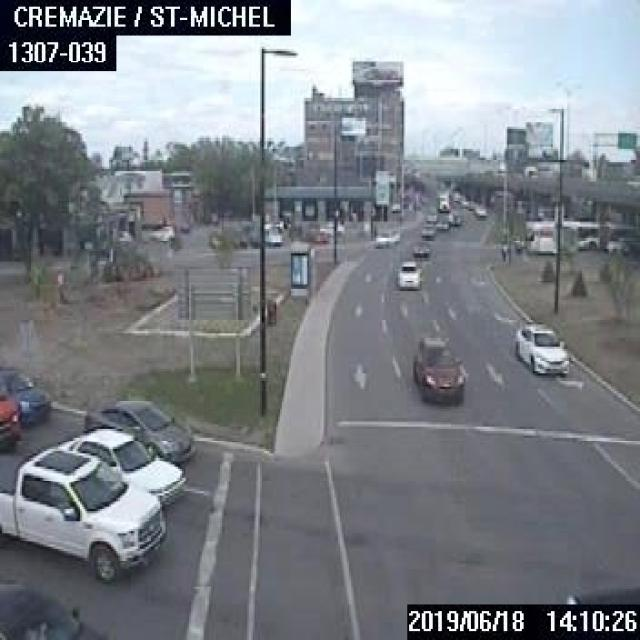bus: (526, 218, 638, 250)
vehicle: (0, 448, 164, 581), (57, 426, 185, 504), (84, 395, 194, 465), (0, 569, 104, 638), (411, 331, 467, 400), (509, 318, 569, 373), (0, 366, 47, 424), (0, 388, 18, 446), (393, 260, 420, 289), (375, 226, 400, 246), (148, 223, 174, 240), (411, 239, 429, 255), (435, 189, 448, 211), (420, 222, 434, 237), (447, 209, 459, 225), (474, 204, 486, 217), (436, 216, 448, 228), (425, 212, 435, 223)
